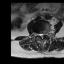CCS_normal: (41, 31, 43, 40)
LFS_stenosis: (44, 31, 46, 36)
LLS_stenosis: (43, 31, 44, 37)
RFS_normal: (36, 31, 39, 37)
RLS_normal: (39, 31, 40, 38)
